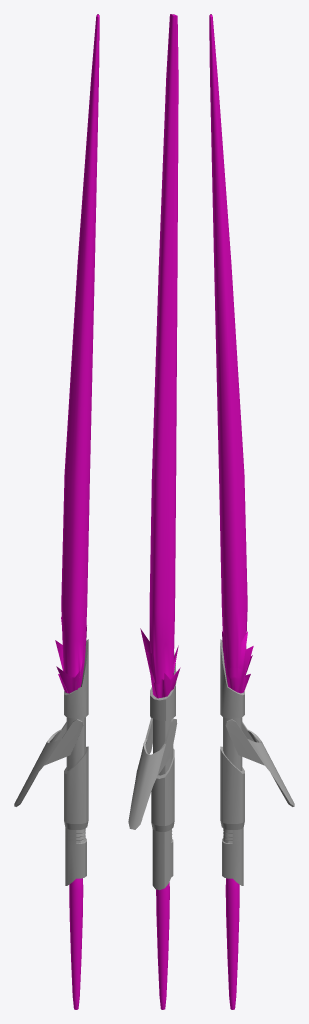
File: nGundamSaber.fbx
The picture shows the model from 3 angles, left to right: view 1: azimuth 90°, elevation 25°; view 2: azimuth 150°, elevation 25°; view 3: azimuth 270°, elevation 25°; orthographic projection.
Visible parts, largest first — view 1: polySurface5; view 2: polySurface5; view 3: polySurface5.
Part boxes in pixels (x1,y1,x2,y2): polySurface5: (14,14,99,1009); polySurface5: (128,14,180,1009); polySurface5: (209,14,294,1009).
Bounding box in the file's own units: 0.3412 × 10.51 × 0.821.
